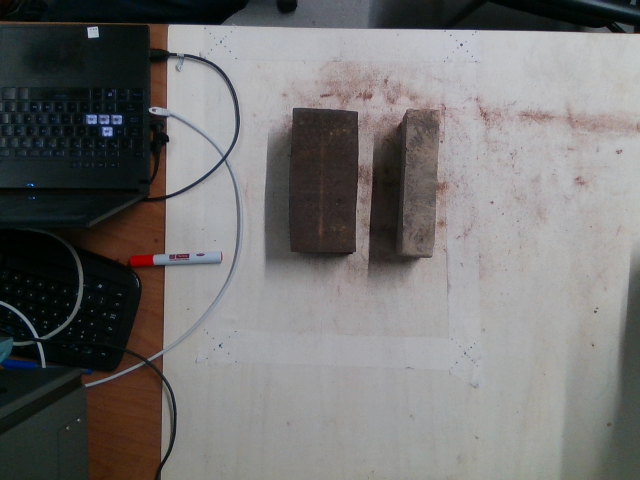brick: (291, 108, 359, 250)
brick-side: (405, 109, 437, 253)
